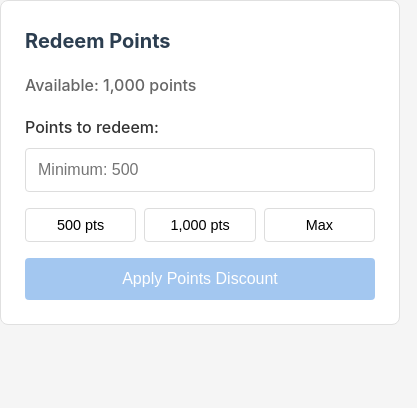
Test case: PointRedemptionForm › should calculate discount amount
This screenshot has width=417, height=408.
Step 1. Type "500" into the number field labelled "Points to redeem:" → (200, 170), box [25,148,375,192]
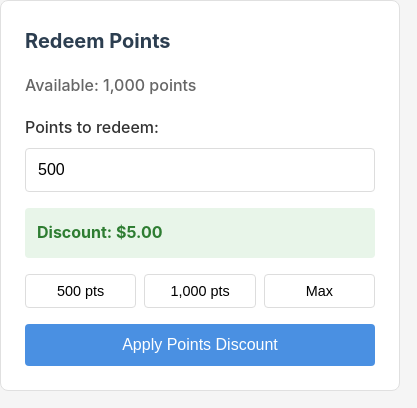
Expected: the text "Discount: $5.00" is shown, [25,208,375,258]
